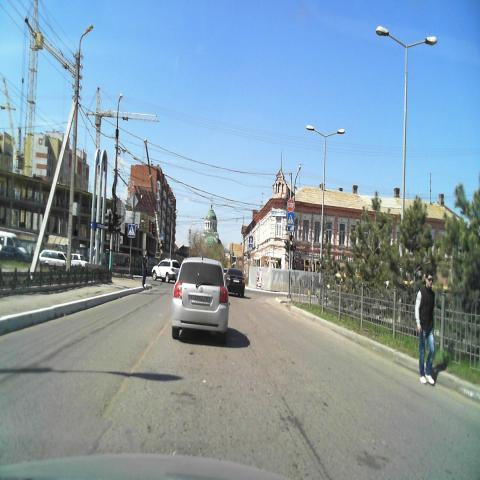2_5: (287, 199, 295, 212)
